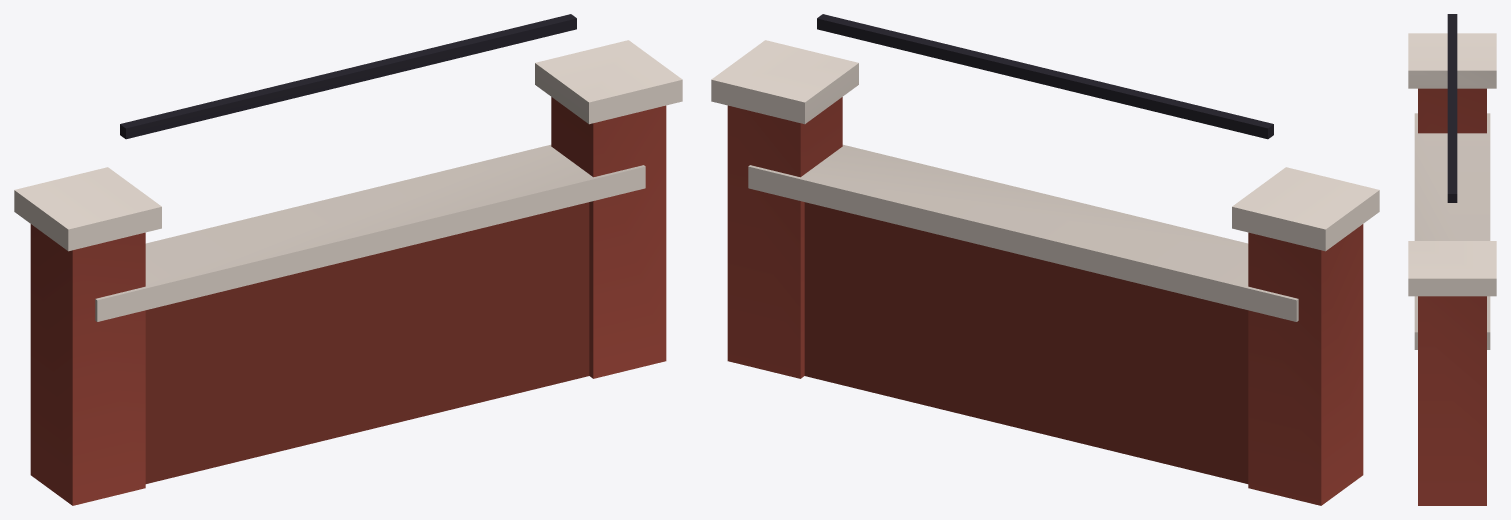
File: prop.cure-garden-wall.lod2.glb
3 views of the same model, side by side, from view 1: azimuth 30°, elevation 25°; view 2: azimuth 150°, elevation 25°; view 3: azimuth 270°, elevation 25° (orthographic). The views are drawn at different scales.
Visible parts, largest first — view 1: body; view 2: body; view 3: body.
Part boxes in pixels (x1,y1,x2,y2): body: (14, 14, 682, 505); body: (711, 14, 1379, 505); body: (1408, 14, 1496, 505).
Size of the model in its own units: 3.54 by 1.91 by 0.54.
